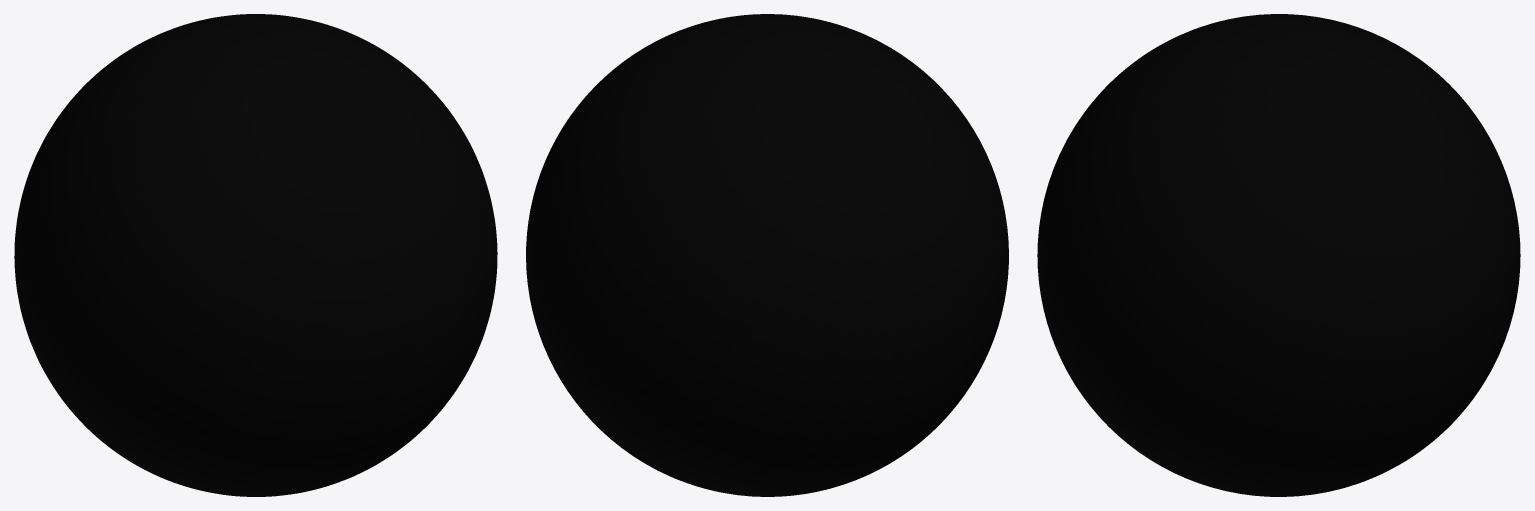
The model's file is globe2.glb.
The picture shows the model from 3 angles, left to right: view 1: azimuth 30°, elevation 25°; view 2: azimuth 150°, elevation 25°; view 3: azimuth 270°, elevation 25°; orthographic projection.
Parts seen in each view (by area): view 1: Sphere, Sphere.001; view 2: Sphere, Sphere.001; view 3: Sphere, Sphere.001.
Boxes of the visible parts, <box> form: Sphere: <box>14,14,497,496</box>; Sphere.001: <box>14,14,497,496</box>; Sphere: <box>526,14,1008,496</box>; Sphere.001: <box>526,14,1008,496</box>; Sphere: <box>1037,14,1520,496</box>; Sphere.001: <box>1037,14,1520,496</box>.
Bounding box in the file's own units: 2 × 2 × 2.
Materials: 2 (2 with a texture image).
